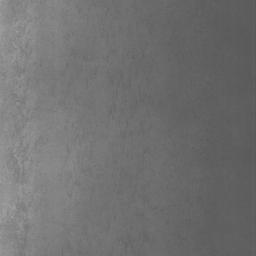Silk spot: (64, 50, 153, 160), (0, 0, 48, 184), (0, 184, 47, 256), (62, 226, 88, 256), (70, 165, 96, 186), (109, 235, 135, 256), (112, 160, 127, 194), (136, 198, 163, 216), (66, 49, 88, 68)
